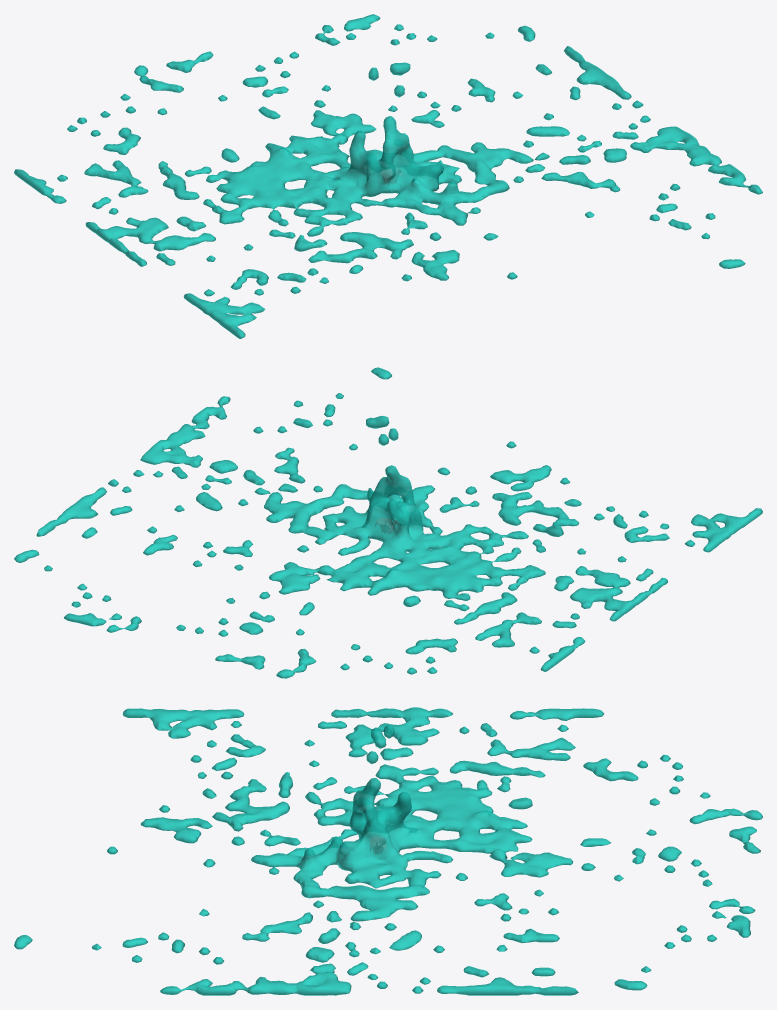
The picture shows the model from 3 angles, top to bottom: view 1: azimuth 30°, elevation 25°; view 2: azimuth 150°, elevation 25°; view 3: azimuth 270°, elevation 25°; orthographic projection. The views are drawn at different scales.
Parts seen in each view (by area): view 1: Liquid_Domain; view 2: Liquid_Domain; view 3: Liquid_Domain.
Part boxes in pixels (bbox=[...]): Liquid_Domain: bbox=[14, 14, 762, 338]; Liquid_Domain: bbox=[14, 367, 762, 678]; Liquid_Domain: bbox=[14, 707, 762, 995].
Bounding box in the file's own units: 12.43 × 2.69 × 13.97.
